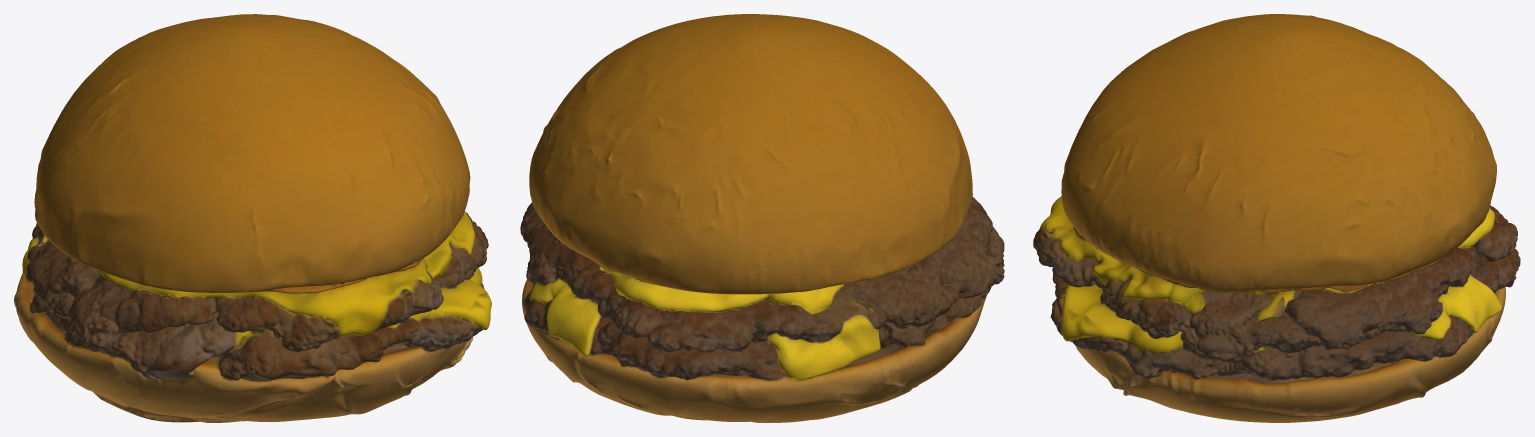
The model's file is burger.glb.
The picture shows the model from 3 angles, left to right: view 1: azimuth 30°, elevation 25°; view 2: azimuth 150°, elevation 25°; view 3: azimuth 270°, elevation 25°; orthographic projection. The views are drawn at different scales.
Size of the model in its own units: 1.81 by 1.36 by 1.89.
Materials: 1 (1 with a texture image).
